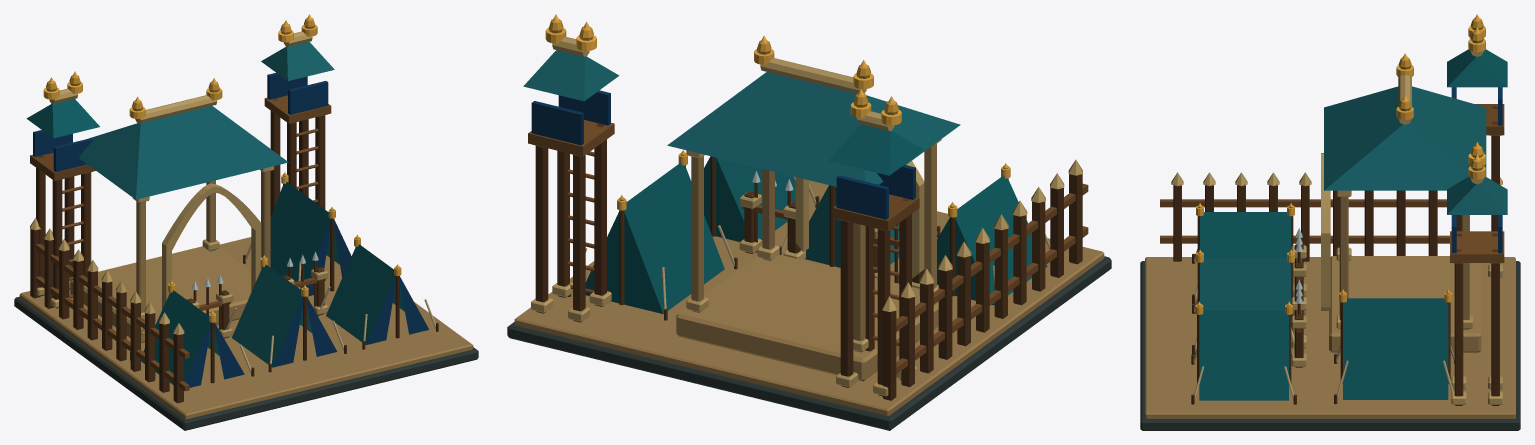
3 views of the same model, side by side, from view 1: azimuth 30°, elevation 25°; view 2: azimuth 150°, elevation 25°; view 3: azimuth 270°, elevation 25° (orthographic). The views are drawn at different scales.
Parts seen in each view (by area): view 1: camp_level10_structure, camp_level10_metal; view 2: camp_level10_structure, camp_level10_metal; view 3: camp_level10_structure, camp_level10_metal.
Part boxes in pixels (x1,y1,x2,y2): camp_level10_structure: [14, 18, 478, 430]; camp_level10_metal: [43, 14, 401, 322]; camp_level10_structure: [507, 19, 1111, 430]; camp_level10_metal: [545, 14, 1010, 217]; camp_level10_structure: [1140, 18, 1520, 430]; camp_level10_metal: [1195, 14, 1485, 314].
Bounding box in the file's own units: 5.6 × 4.34 × 5.6.
